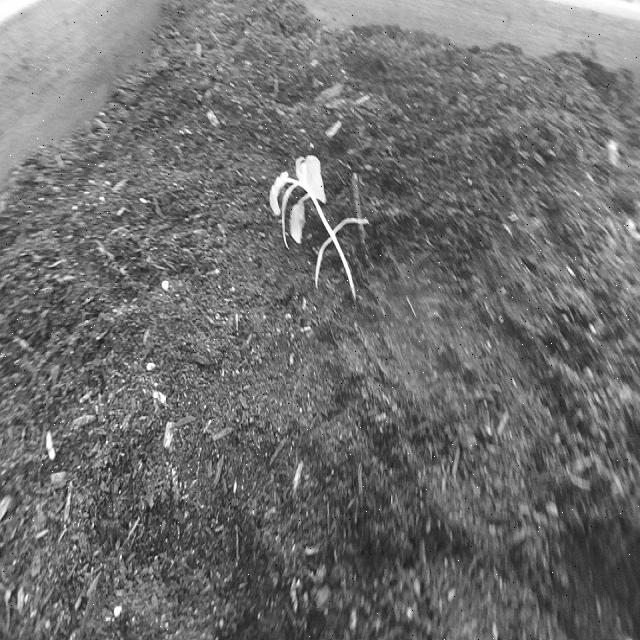Healthy: (260, 144, 378, 319)
